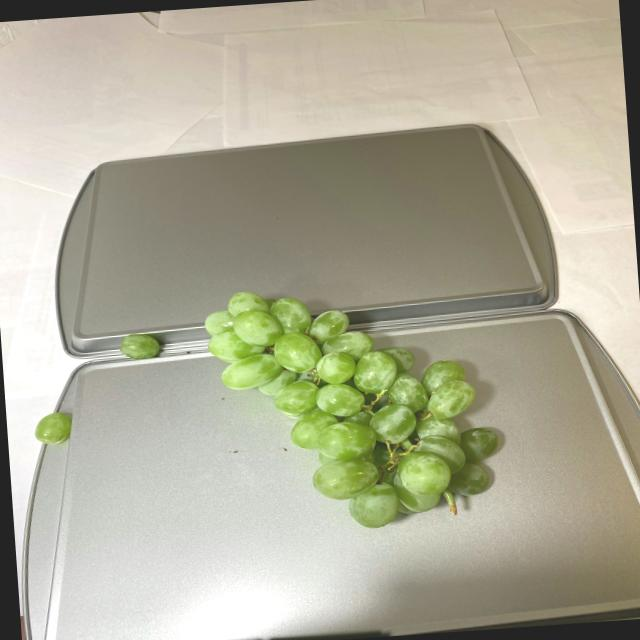grapes: (195, 279, 508, 538), (28, 408, 77, 446), (118, 332, 165, 359)
